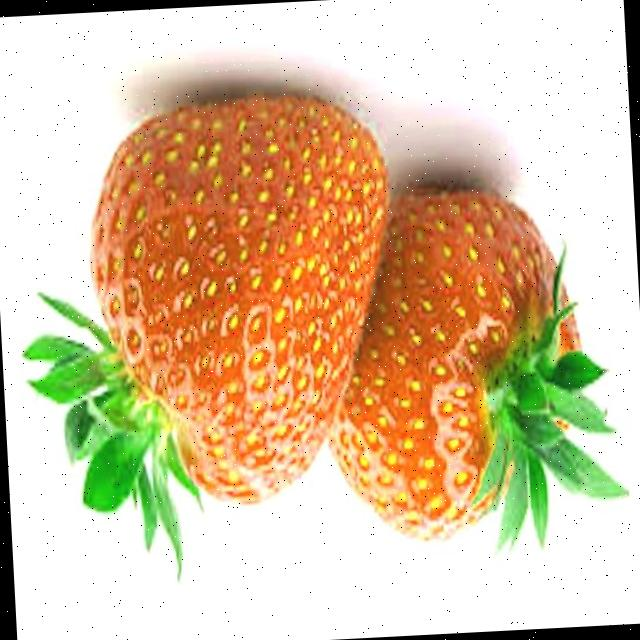strawberry: (25, 98, 386, 565), (332, 188, 626, 544)
